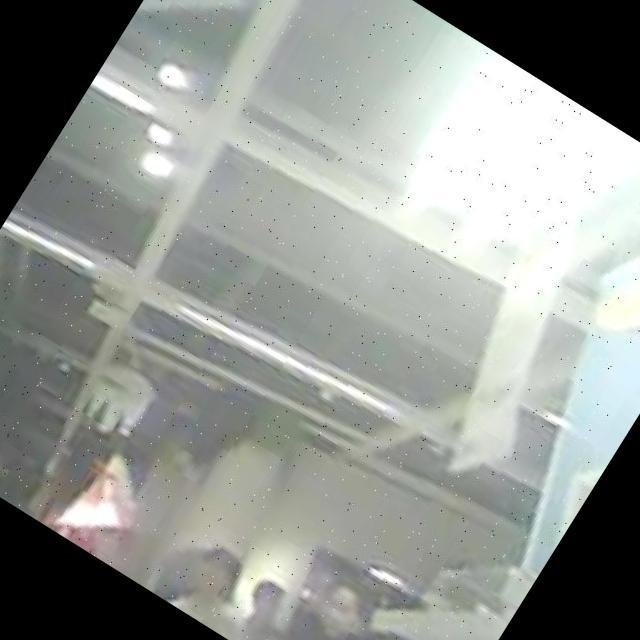person: (155, 528, 294, 640), (263, 567, 404, 640), (227, 569, 309, 640)
